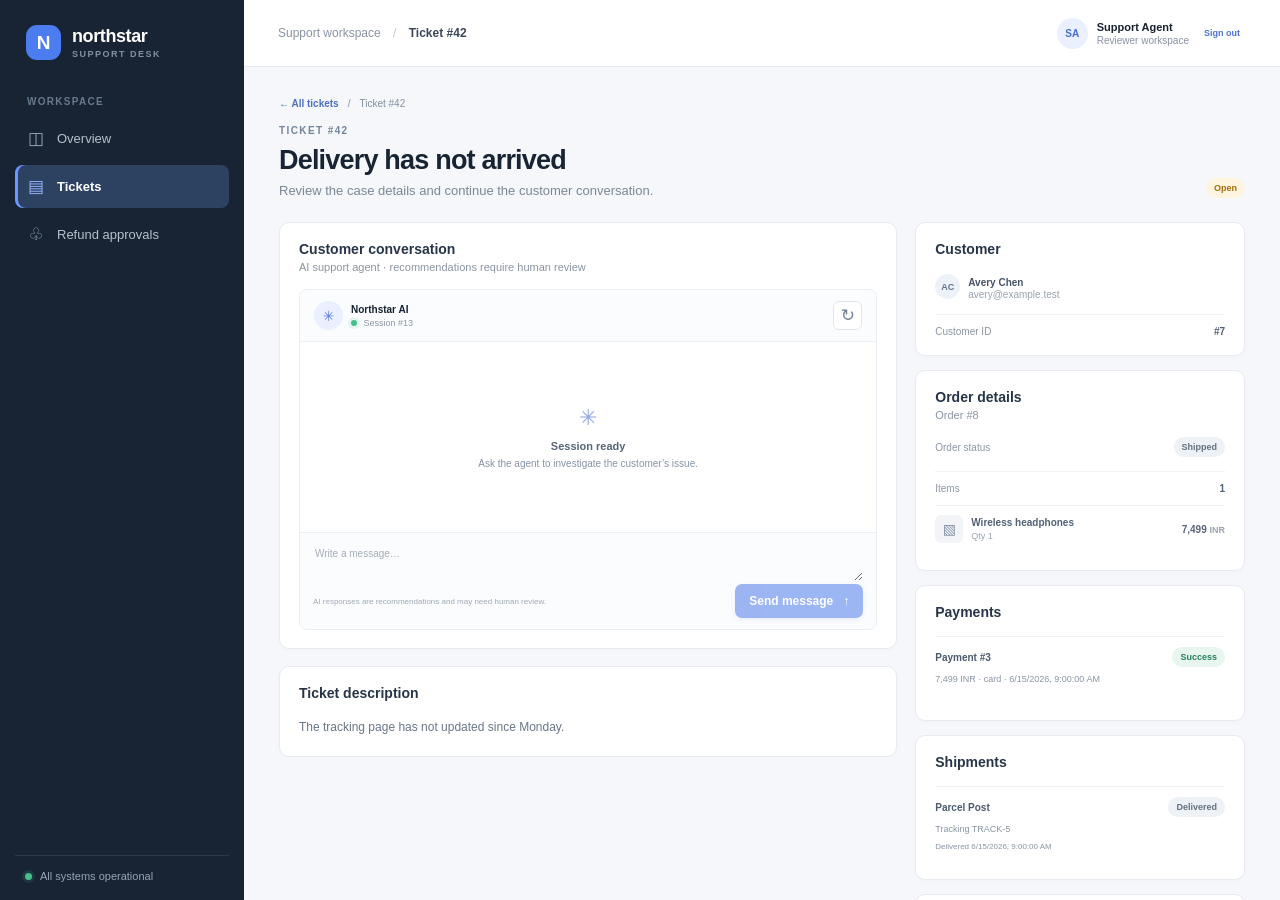
Test: support dashboard › loads persisted failure status after a failed execution response
Type "Please check this delivery." into the text box named "Message the support agent" at (588, 563), box [313,544,863,581]
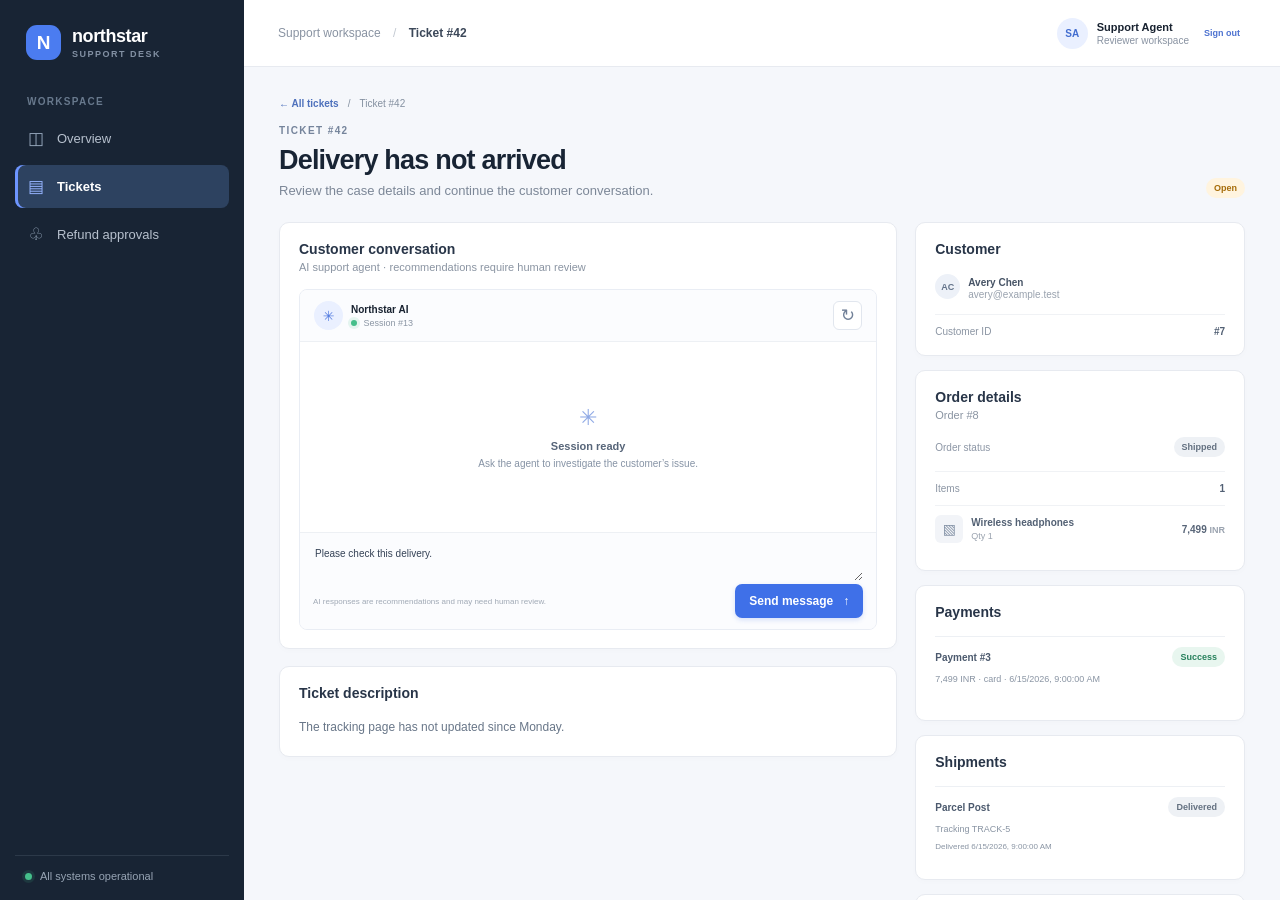
Click the button "Send message ↑" at (799, 601), box [735,584,863,618]
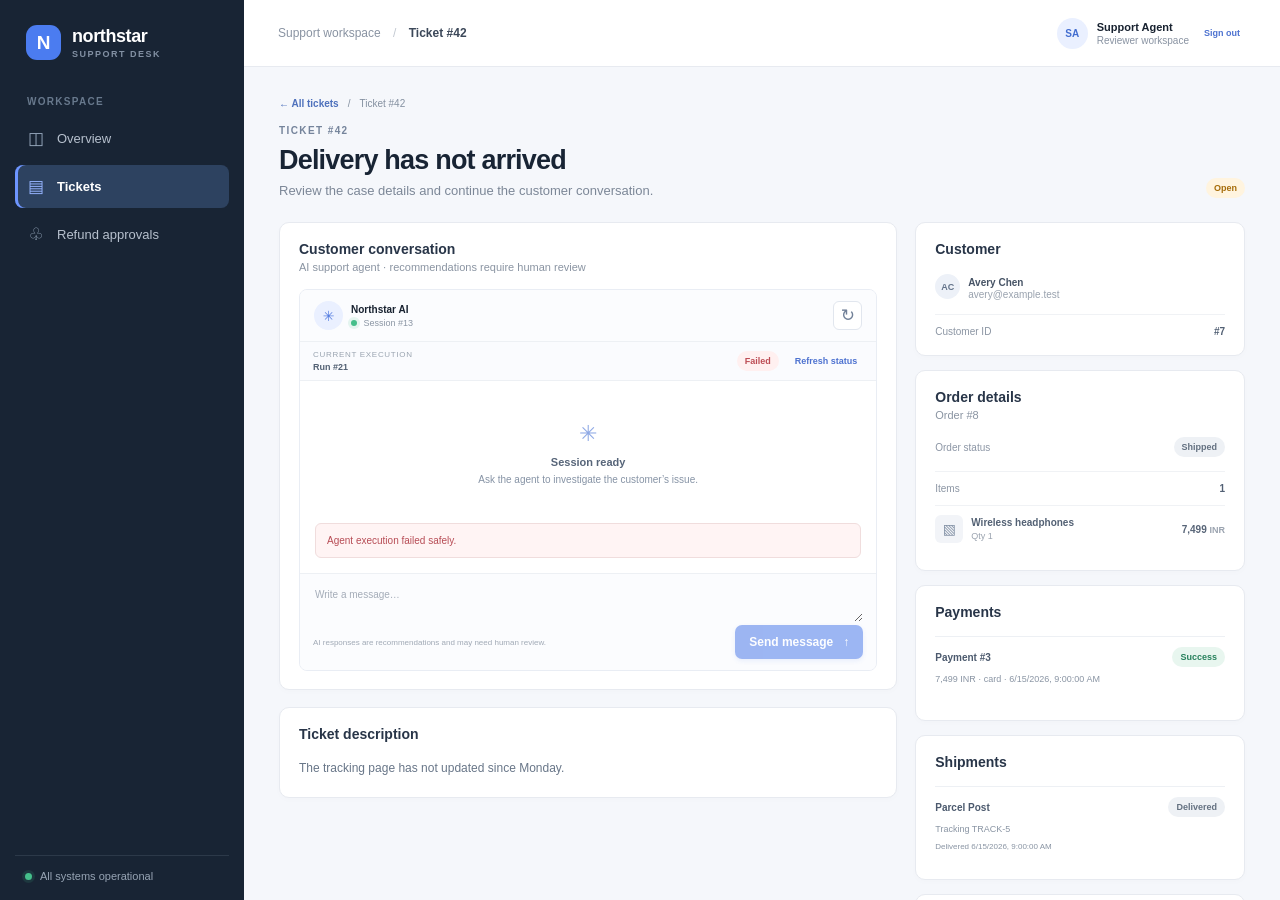
Result: the text "Agent execution failed safely." is shown at [315,523,861,558]
Result: the text "failed" is shown at [737,351,779,371]
